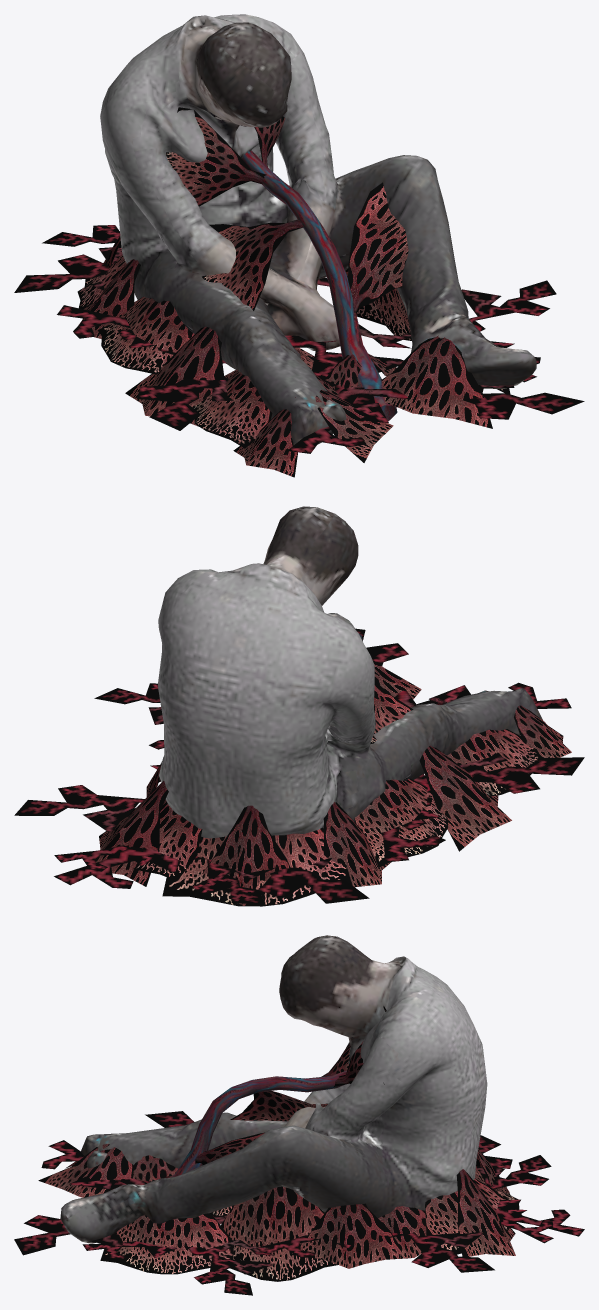
File: Deadpeople4.fbx
3 renders of one model, top to bottom at view 1: azimuth 30°, elevation 25°; view 2: azimuth 150°, elevation 25°; view 3: azimuth 270°, elevation 25°, orthographic. The views are drawn at different scales.
Parts seen in each view (by area): view 1: LODGroup_1_MainMesh_2_SubMesh_1, LODGroup_1_MainMesh_1_SubMesh_1, LODGroup_1_MainMesh_1_SubMesh_2; view 2: LODGroup_1_MainMesh_2_SubMesh_1, LODGroup_1_MainMesh_1_SubMesh_1; view 3: LODGroup_1_MainMesh_2_SubMesh_1, LODGroup_1_MainMesh_1_SubMesh_1, LODGroup_1_MainMesh_1_SubMesh_2.
Part boxes in pixels (x1,y1,x2,y2): LODGroup_1_MainMesh_2_SubMesh_1: (100, 14, 536, 445); LODGroup_1_MainMesh_1_SubMesh_1: (14, 107, 584, 477); LODGroup_1_MainMesh_1_SubMesh_2: (242, 150, 397, 421); LODGroup_1_MainMesh_2_SubMesh_1: (158, 506, 542, 838); LODGroup_1_MainMesh_1_SubMesh_1: (14, 628, 584, 906); LODGroup_1_MainMesh_2_SubMesh_1: (60, 935, 487, 1243); LODGroup_1_MainMesh_1_SubMesh_1: (14, 1006, 584, 1295); LODGroup_1_MainMesh_1_SubMesh_2: (167, 1070, 346, 1178).
Size of the model in its own units: 111 by 79.84 by 145.
